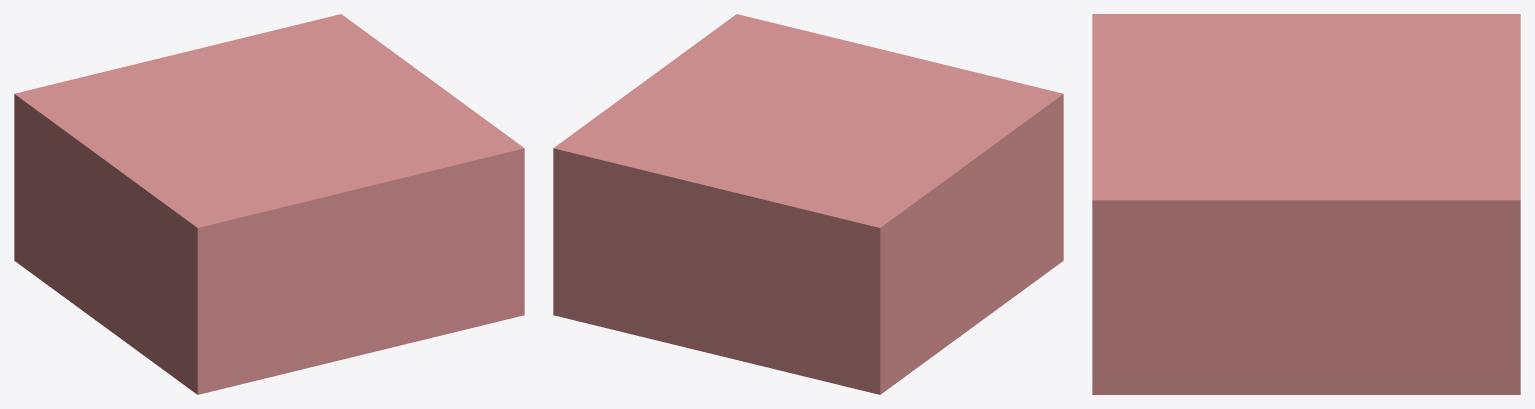
The model's file is bigleaf.DAE.
3 views of the same model, side by side, from view 1: azimuth 30°, elevation 25°; view 2: azimuth 150°, elevation 25°; view 3: azimuth 270°, elevation 25° (orthographic). The views are drawn at different scales.
Visible parts, largest first — view 1: bounds; view 2: bounds; view 3: bounds.
Boxes of the visible parts, bbox=[...] form: bounds: bbox=[14, 14, 524, 394]; bounds: bbox=[553, 14, 1063, 394]; bounds: bbox=[1092, 14, 1520, 394].
Size of the model in its own units: 3.43 by 3.33 by 1.7.
